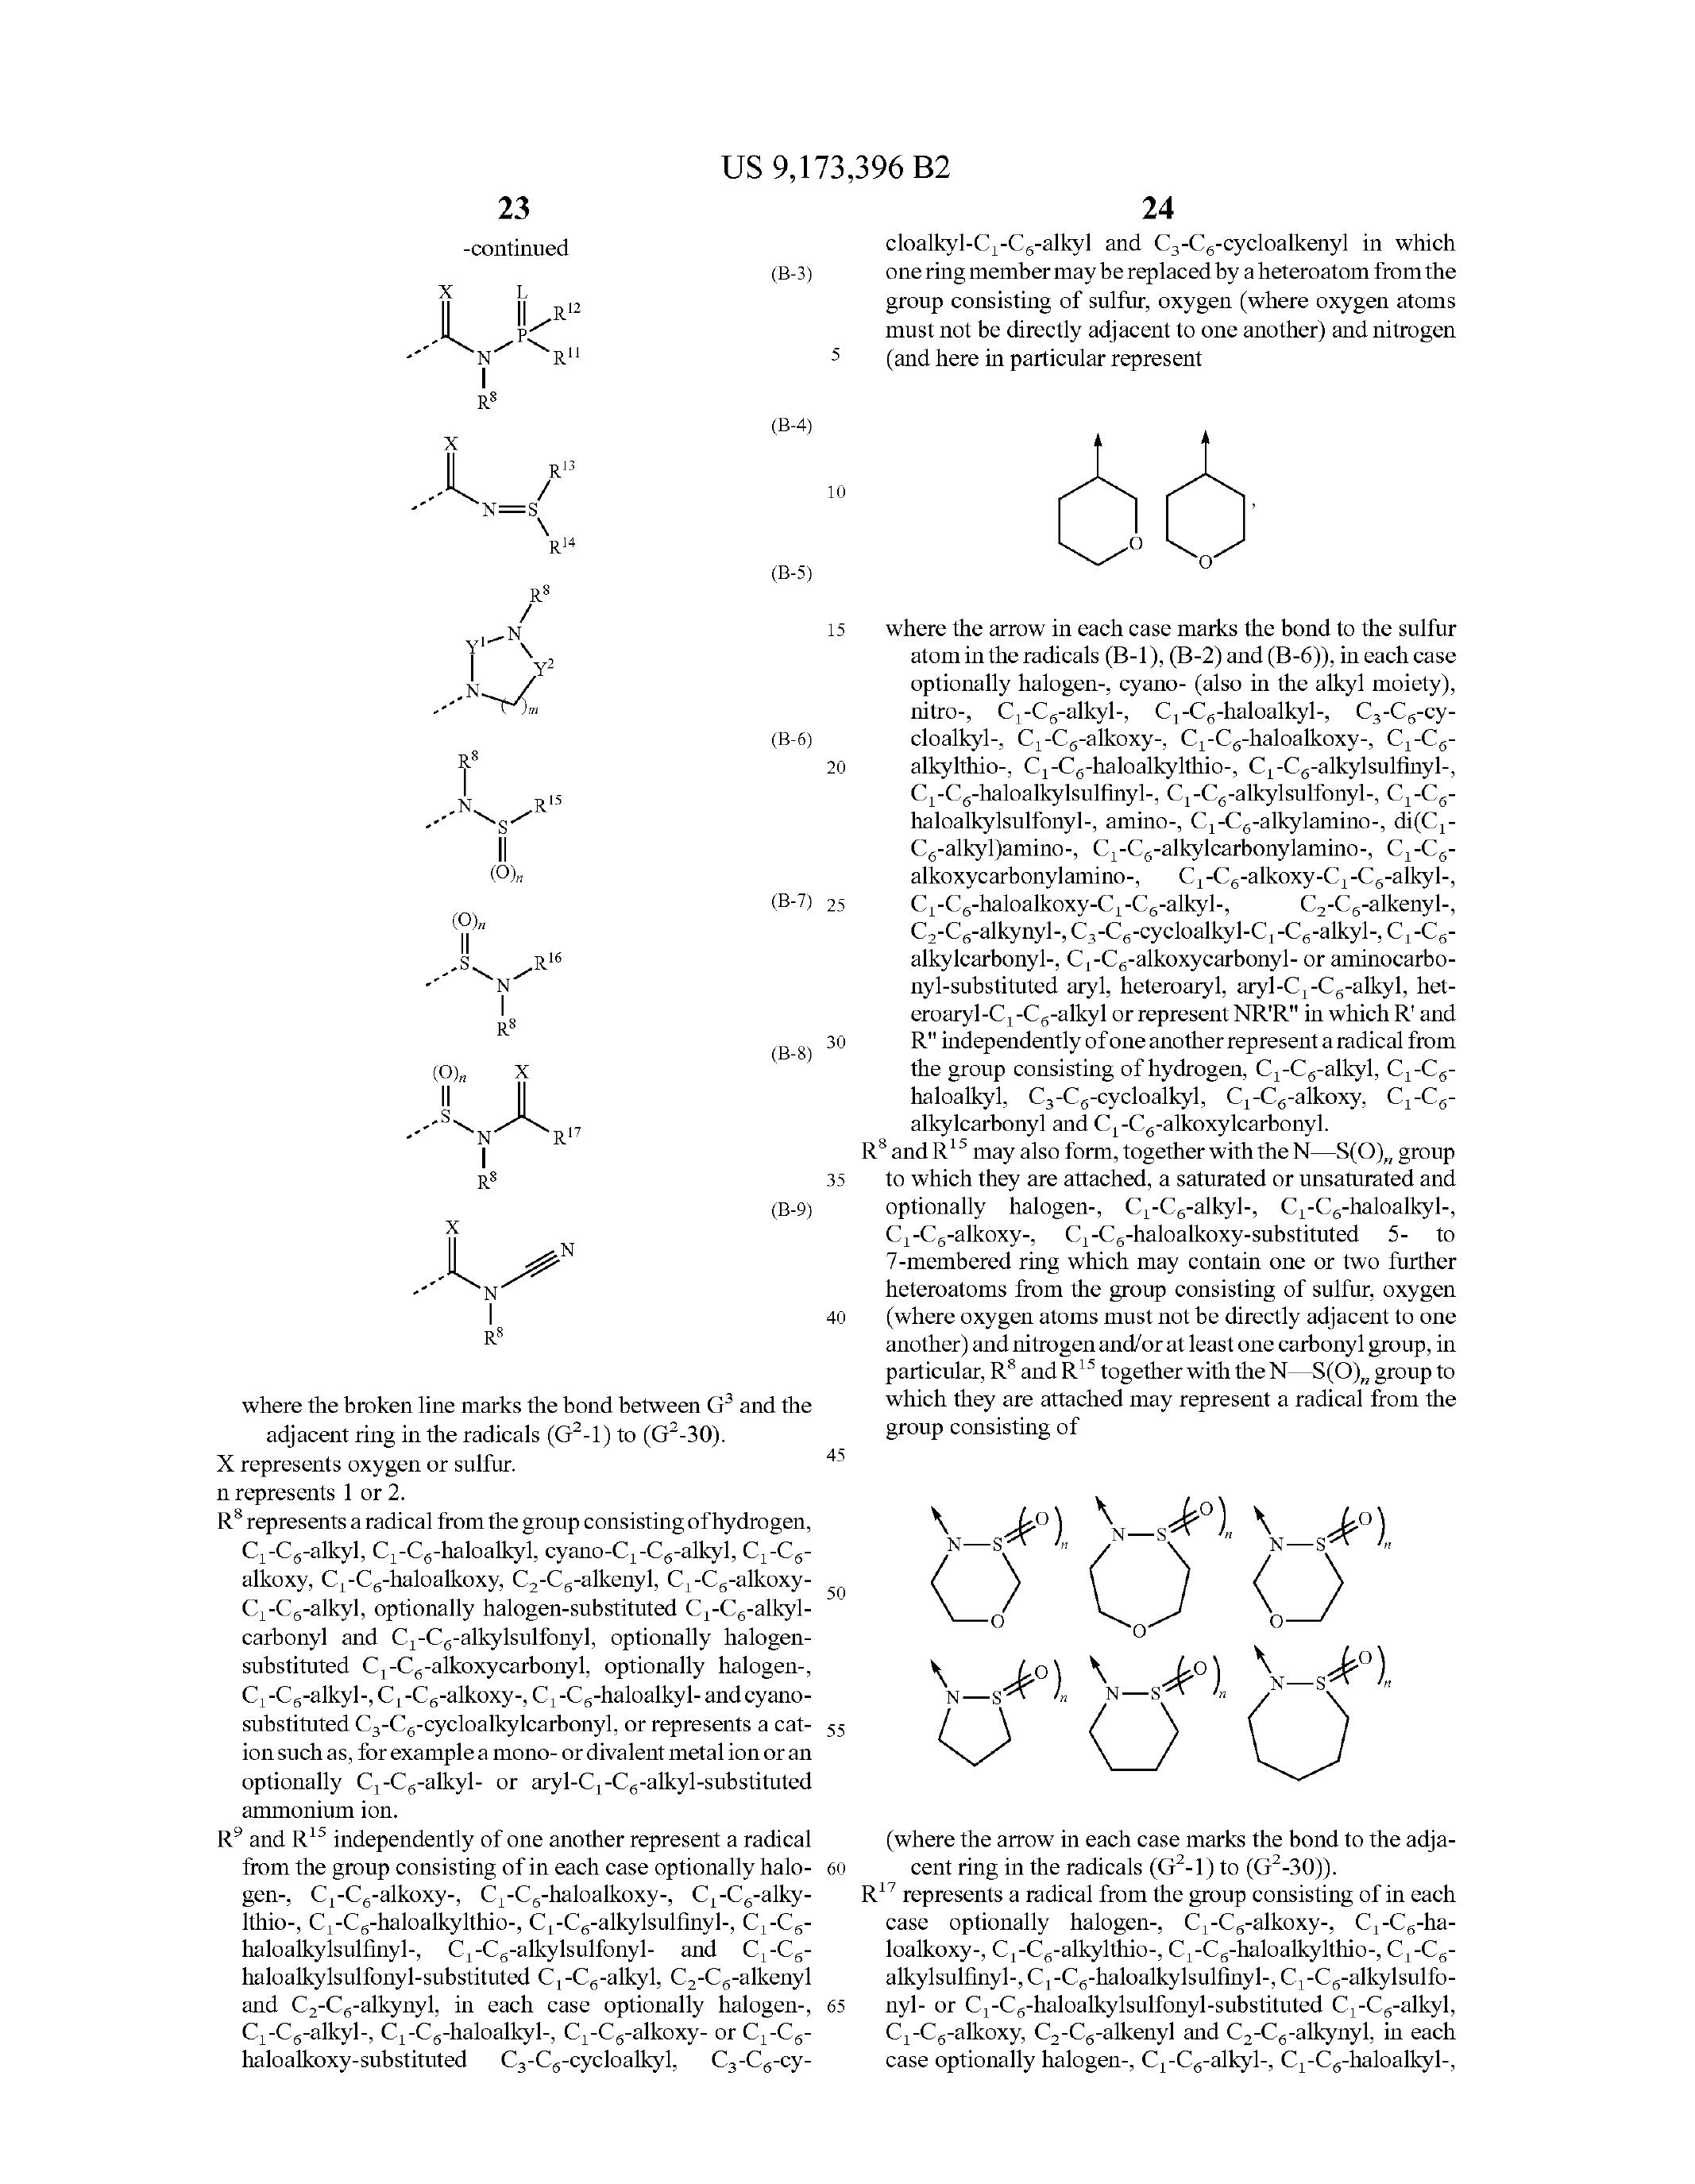intermediates: (239, 239, 688, 1354)
